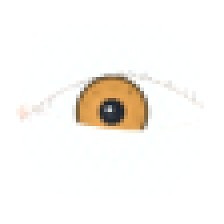pinguecula_lesion: (39, 89, 81, 123)
